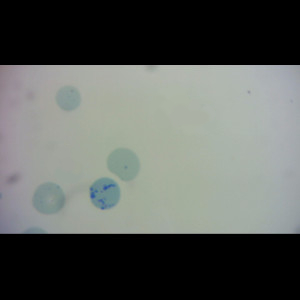aggregate reticulocyte: (88, 176, 122, 211)
punctate reticulocyte: (105, 147, 142, 184), (32, 181, 67, 215), (54, 84, 82, 112)
